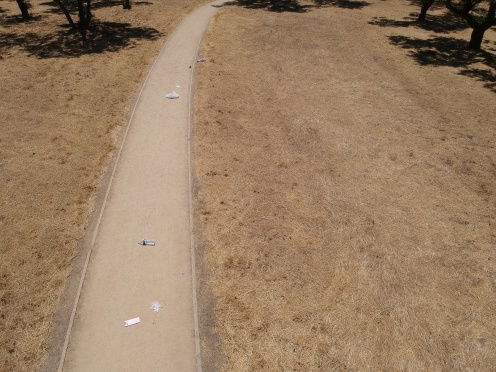bottle: (132, 233, 158, 249)
plastic bag: (162, 88, 183, 101)
